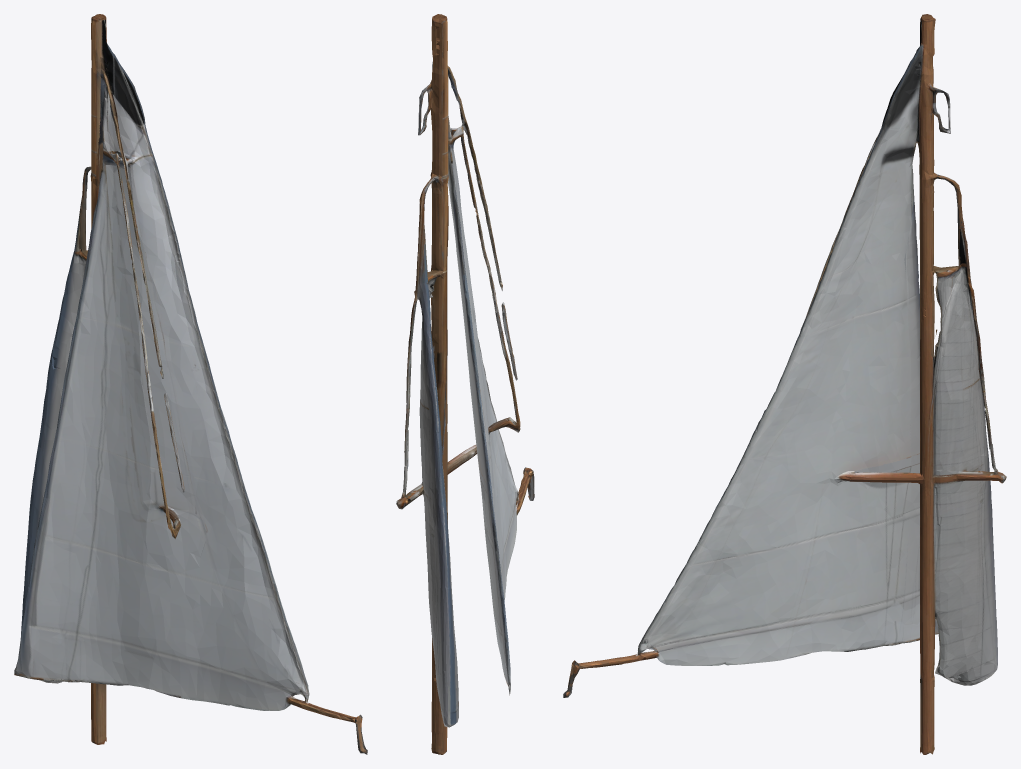
The model's file is Create_a_3d_model_of__0423163223_texture.fbx.
The picture shows the model from 3 angles, left to right: view 1: azimuth 30°, elevation 25°; view 2: azimuth 150°, elevation 25°; view 3: azimuth 270°, elevation 25°; orthographic projection.
Parts seen in each view (by area): view 1: temp; view 2: temp; view 3: temp.
Boxes of the visible parts, left/top/right/bottom form: temp: left=14, top=14, right=367, bottom=754; temp: left=396, top=14, right=534, bottom=754; temp: left=563, top=14, right=1006, bottom=754.
Bounding box in the file's own units: 48.39 × 200 × 109.
1 material, 1 textured.
